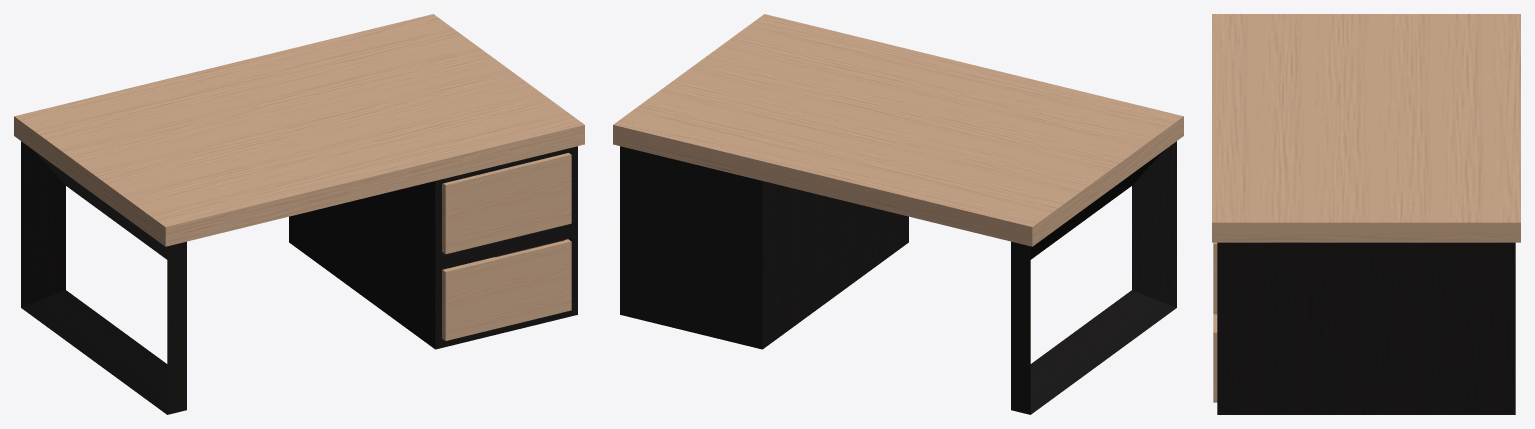
File: Desk_W_Drawers_A.FBX
3 views of the same model, side by side, from view 1: azimuth 30°, elevation 25°; view 2: azimuth 150°, elevation 25°; view 3: azimuth 270°, elevation 25° (orthographic).
Visible parts, largest first — view 1: Desk_With_Drawers, Drawer_B, Drawer_A; view 2: Desk_With_Drawers; view 3: Desk_With_Drawers, Drawer_B, Drawer_A.
Part boxes in pixels (x1,y1,x2,y2): Desk_With_Drawers: [14, 14, 584, 414]; Drawer_B: [442, 239, 571, 340]; Drawer_A: [442, 153, 571, 253]; Desk_With_Drawers: [613, 14, 1183, 414]; Desk_With_Drawers: [1212, 14, 1520, 414]; Drawer_B: [1213, 314, 1217, 402]; Drawer_A: [1213, 242, 1217, 314].
Size of the model in its own units: 227 by 98.47 by 142.
